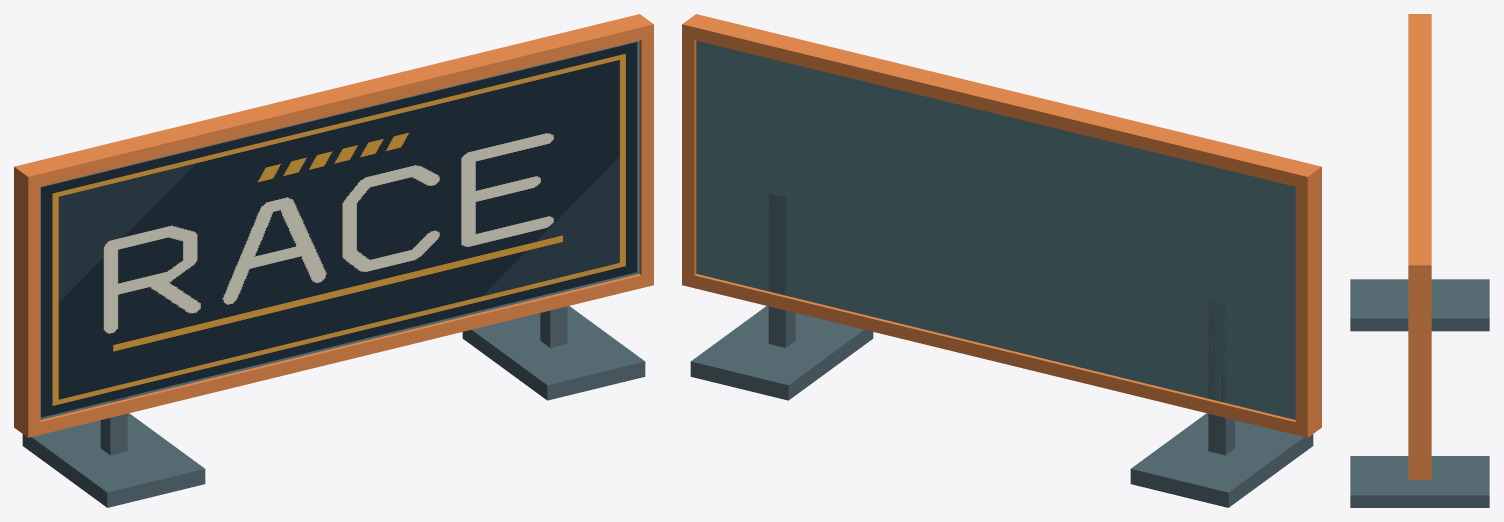
Rendered from sponsor-board.glb.
3 renders of one model, left to right at view 1: azimuth 30°, elevation 25°; view 2: azimuth 150°, elevation 25°; view 3: azimuth 270°, elevation 25°, orthographic. The views are drawn at different scales.
Parts seen in each view (by area): view 1: RacePanel, BoardFrame, BoardSupports, BoardBack; view 2: BoardBack, BoardFrame, BoardSupports; view 3: BoardSupports, BoardFrame.
Boxes of the visible parts, left/top/right/bottom form: RacePanel: left=41, top=42, right=637, bottom=417; BoardFrame: left=14, top=14, right=653, bottom=437; BoardSupports: left=22, top=290, right=645, bottom=507; BoardBack: left=40, top=40, right=639, bottom=419; BoardBack: left=696, top=40, right=1295, bottom=419; BoardFrame: left=682, top=14, right=1321, bottom=437; BoardSupports: left=690, top=193, right=1313, bottom=507; BoardSupports: left=1350, top=279, right=1489, bottom=507; BoardFrame: left=1408, top=14, right=1431, bottom=480.
Size of the model in its own units: 5.12 by 2.47 by 1.2.
Materials: 4 (1 with a texture image).
